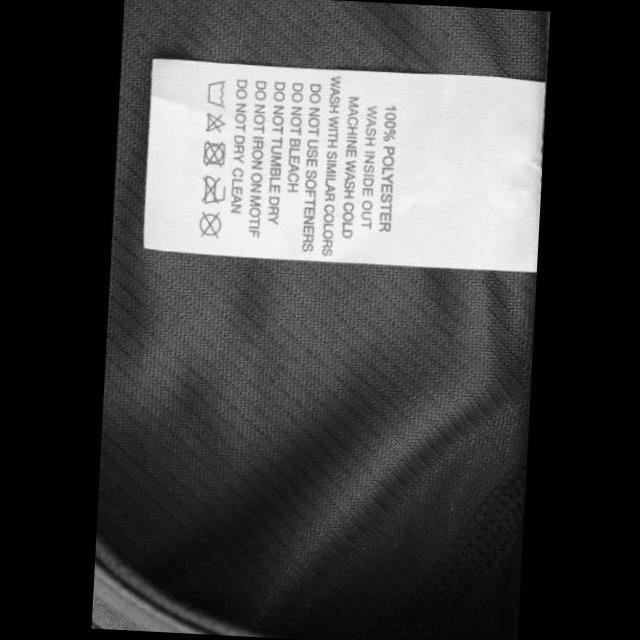DN_bleach: (202, 112, 226, 134)
DN_dry_clean: (196, 210, 222, 240)
DN_iron: (197, 175, 226, 207)
DN_tumble_dry: (200, 139, 225, 169)
